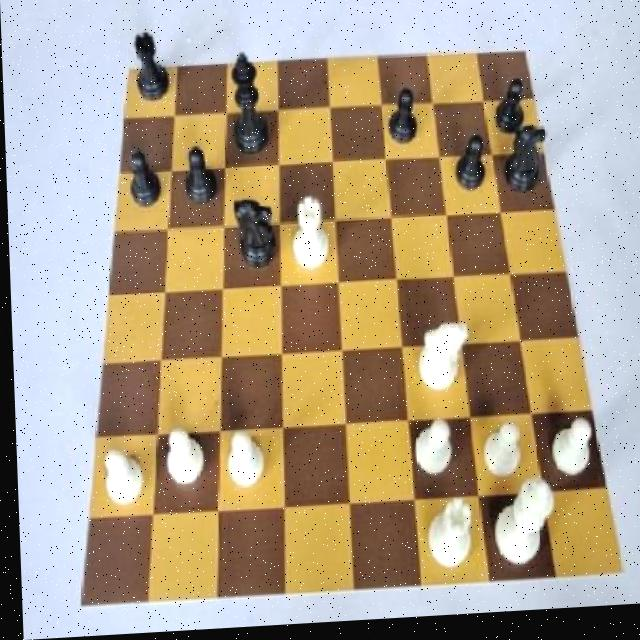black-bishop: (224, 46, 270, 167)
black-king: (498, 130, 552, 214), (228, 194, 275, 281)
black-knight: (445, 136, 488, 206), (177, 141, 218, 214), (126, 145, 162, 217), (492, 83, 530, 149), (381, 91, 423, 150)
black-queen: (128, 24, 171, 109)
white-bishop: (483, 486, 553, 583)
white-king: (406, 314, 471, 403)
white-knight: (155, 420, 204, 497), (473, 424, 526, 490), (216, 431, 267, 498), (96, 442, 144, 513), (544, 421, 592, 487), (407, 423, 455, 489)
white-queen: (418, 502, 474, 580), (287, 194, 330, 287)
